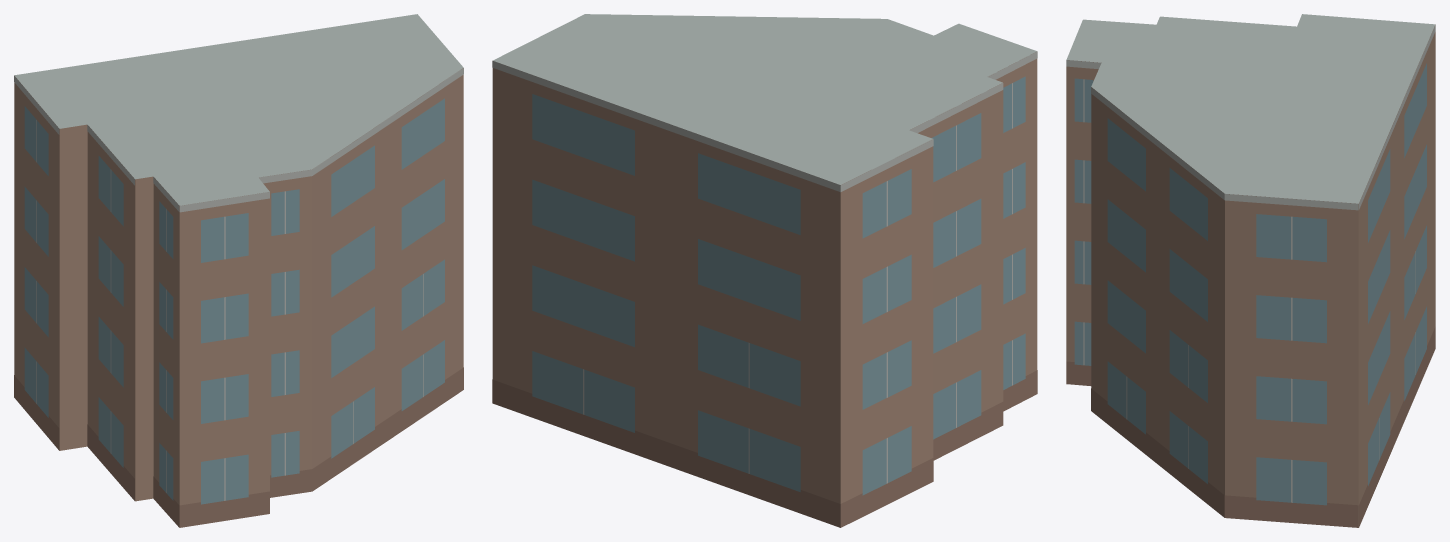
File: survey-upis-32791596.glb
3 views of the same model, side by side, from view 1: azimuth 30°, elevation 25°; view 2: azimuth 150°, elevation 25°; view 3: azimuth 270°, elevation 25° (orthographic). The views are drawn at different scales.
Parts seen in each view (by area): view 1: survey-upis-32791596.tmp; view 2: survey-upis-32791596.tmp; view 3: survey-upis-32791596.tmp.
Part boxes in pixels (left/top/right/bottom): survey-upis-32791596.tmp: left=14, top=14, right=463, bottom=527; survey-upis-32791596.tmp: left=492, top=14, right=1037, bottom=527; survey-upis-32791596.tmp: left=1066, top=14, right=1435, bottom=527.
Bounding box in the file's own units: 14.82 × 11.8 × 12.19.
